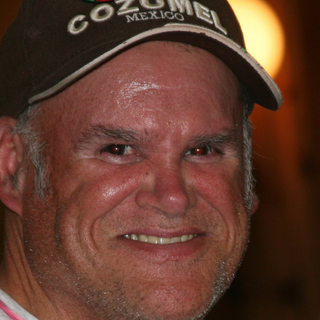eye: (93, 139, 141, 163), (180, 139, 225, 163)
